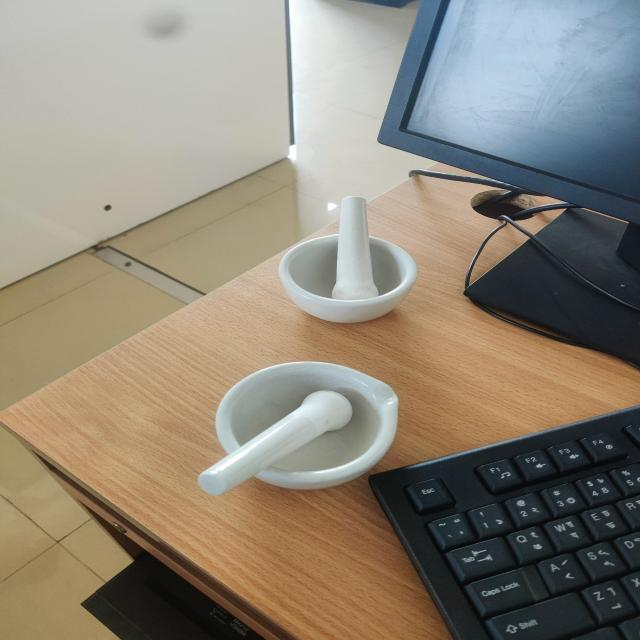Porcelain_Mortar Pestle: (152, 343, 432, 523), (259, 178, 442, 335)
